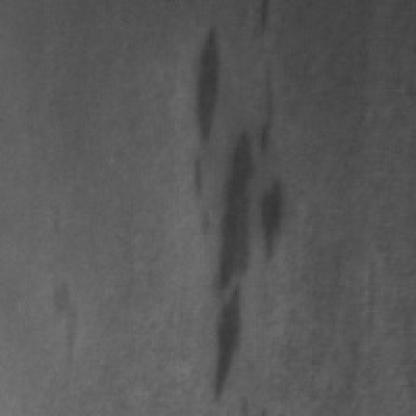inclusion: (187, 16, 283, 402), (179, 6, 231, 154), (40, 272, 82, 360), (252, 170, 289, 264)
